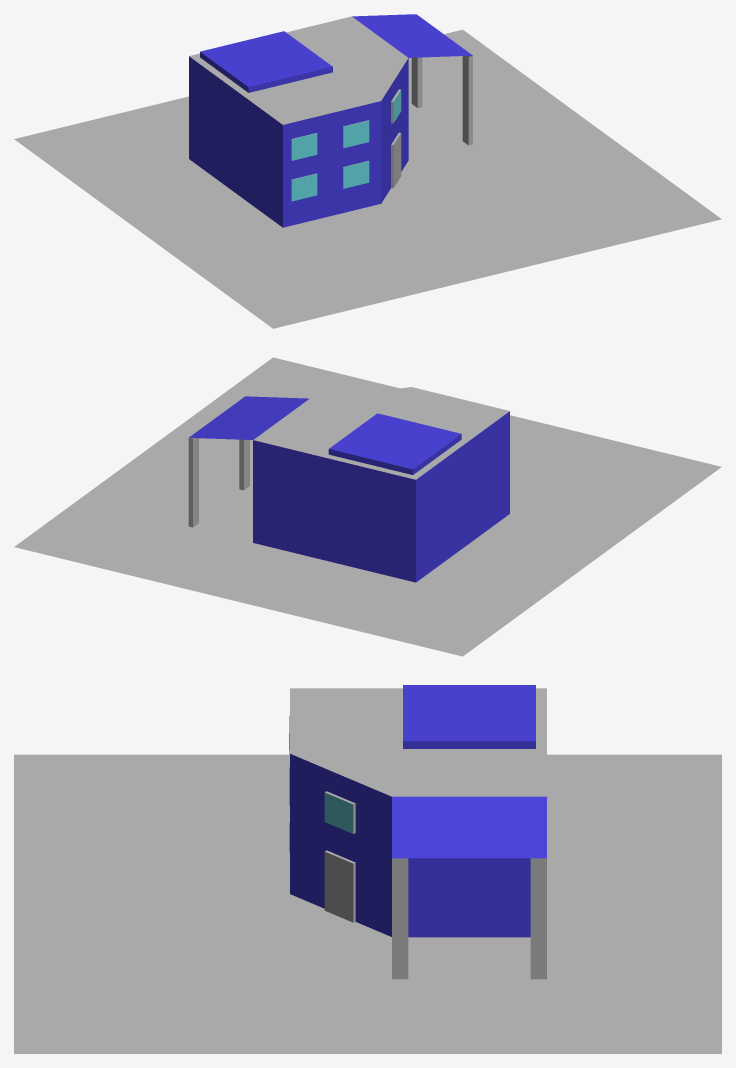
File: Commercial1.fbx
3 renders of one model, top to bottom at view 1: azimuth 30°, elevation 25°; view 2: azimuth 150°, elevation 25°; view 3: azimuth 270°, elevation 25°, orthographic. The views are drawn at different scales.
Visible parts, largest first — view 1: Cube.006; view 2: Cube.006; view 3: Cube.006.
Part boxes in pixels (left/top/right/bottom): Cube.006: left=14, top=14, right=721, bottom=328; Cube.006: left=14, top=357, right=721, bottom=656; Cube.006: left=14, top=685, right=721, bottom=1053.
Bounding box in the file's own units: 5000 × 1156 × 5000.
